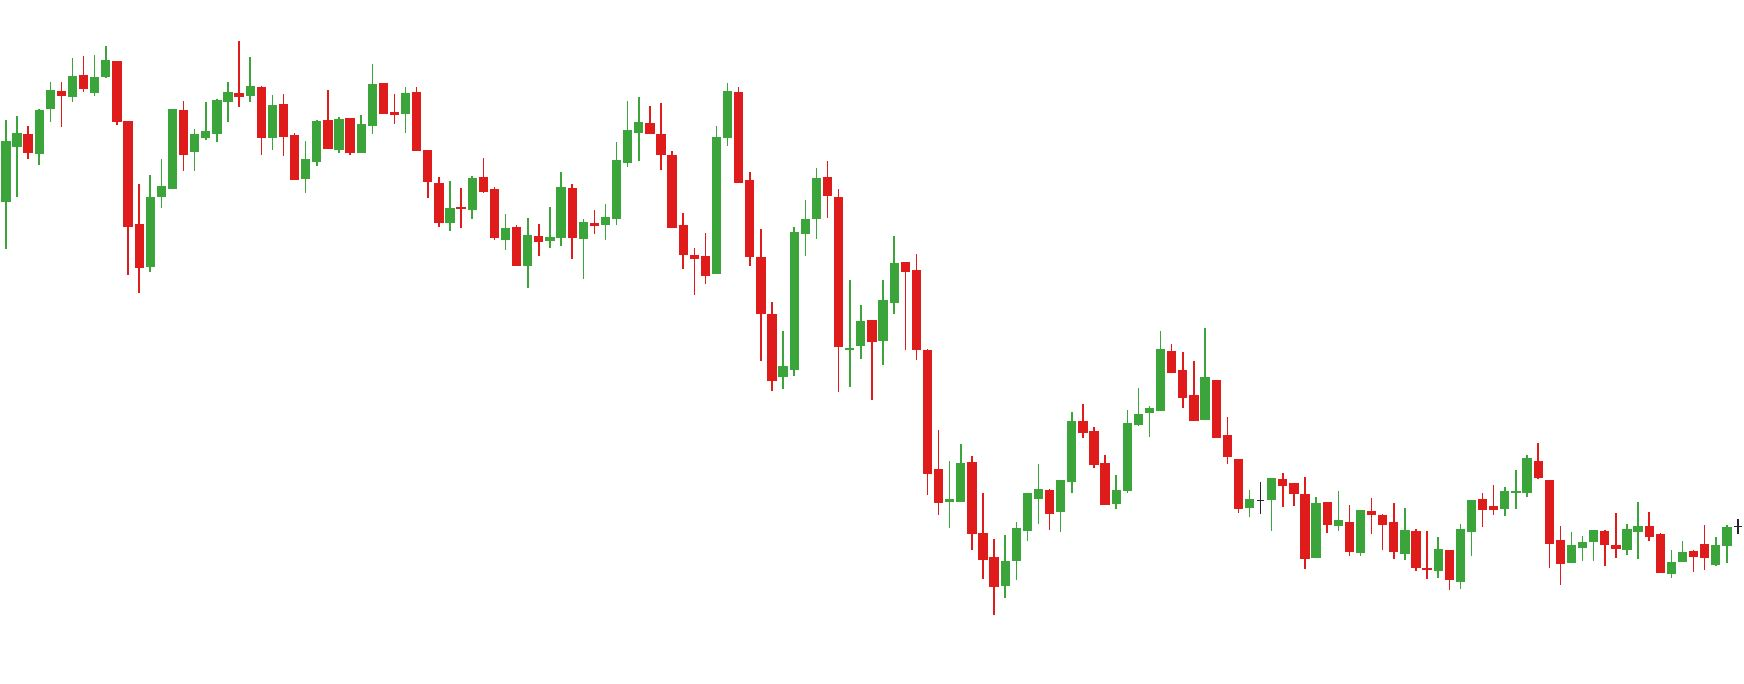buy: (3, 113, 158, 303)
sell: (620, 78, 744, 209), (318, 52, 390, 141)
